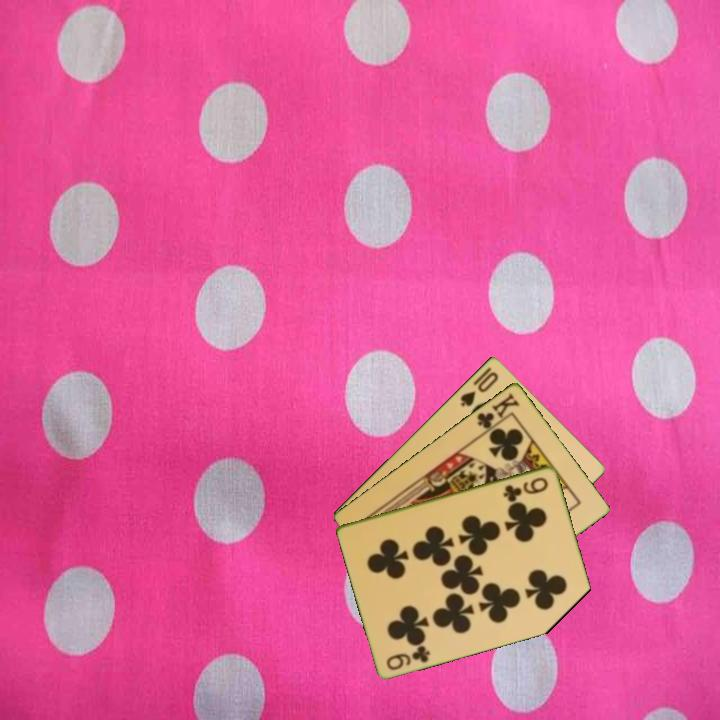10s: (456, 368, 501, 410)
9c: (383, 641, 433, 673), (500, 473, 551, 503)
Kc: (473, 389, 523, 437)
